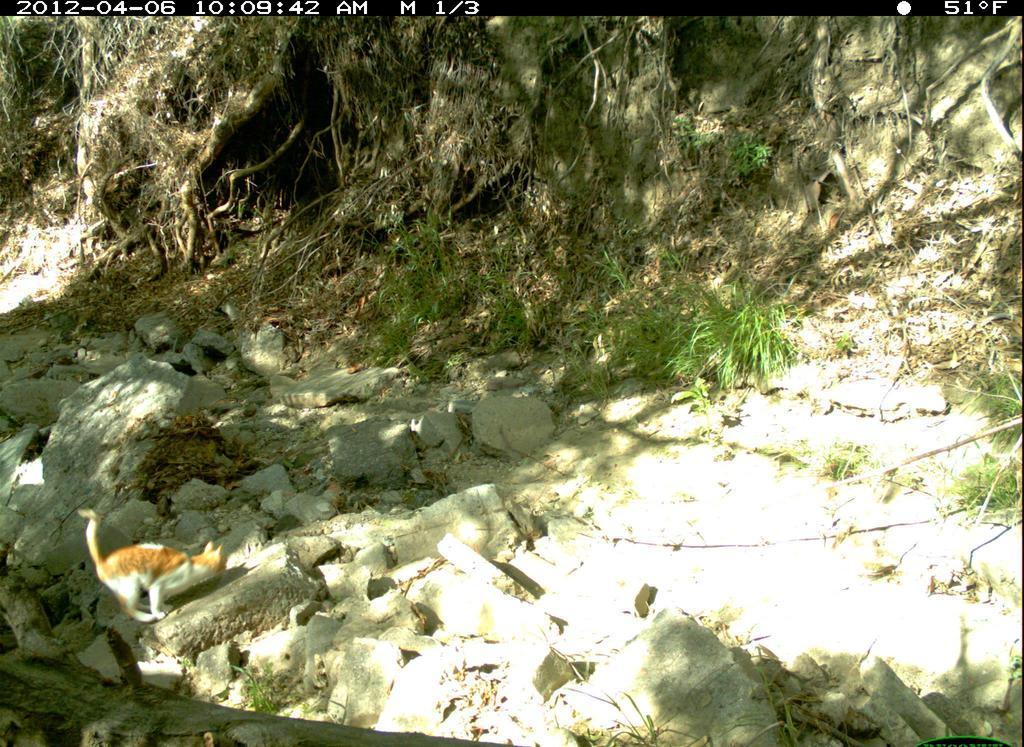cat: (75, 505, 232, 630)
